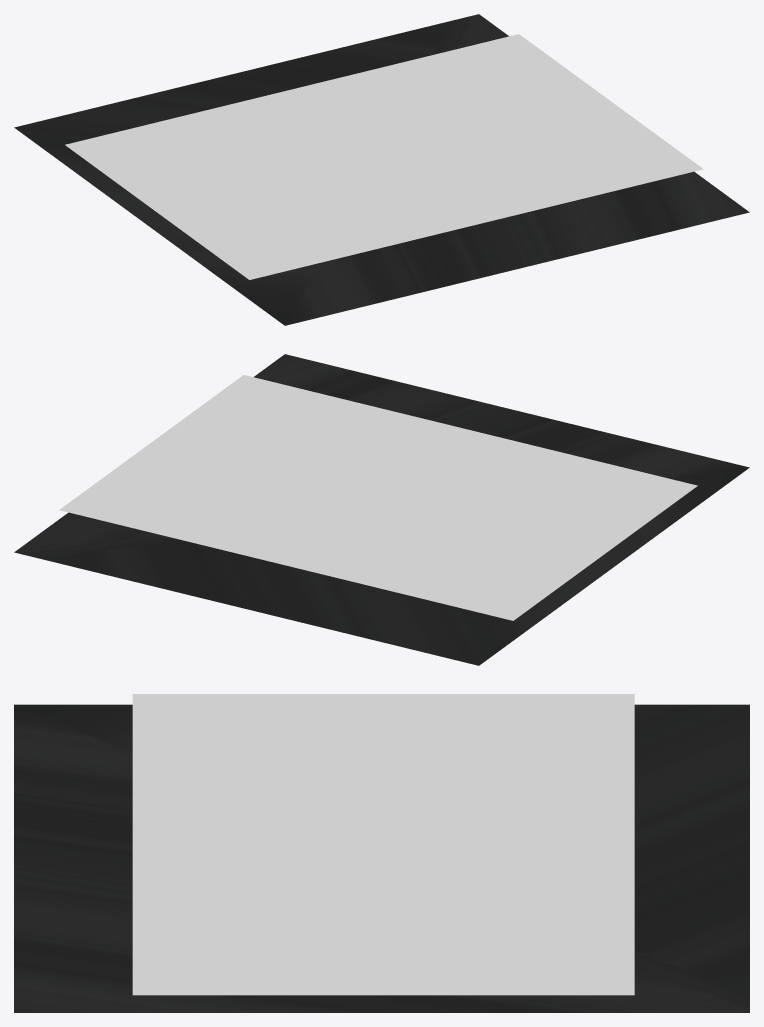
The picture shows the model from 3 angles, top to bottom: view 1: azimuth 30°, elevation 25°; view 2: azimuth 150°, elevation 25°; view 3: azimuth 270°, elevation 25°; orthographic projection. The views are drawn at different scales.
Parts seen in each view (by area): view 1: Plane, Curve; view 2: Plane, Curve; view 3: Plane, Curve.
Part boxes in pixels (box(x1,y1,x2,y2)): Plane: box(65, 34, 703, 279); Curve: box(14, 14, 749, 325); Plane: box(59, 375, 697, 620); Curve: box(14, 354, 749, 665); Plane: box(132, 694, 634, 995); Curve: box(14, 704, 749, 1012).
Size of what is drawn, in the model's own units: 1.48 by 0.0358 by 1.49.
Materials: 1 (1 with a texture image).
